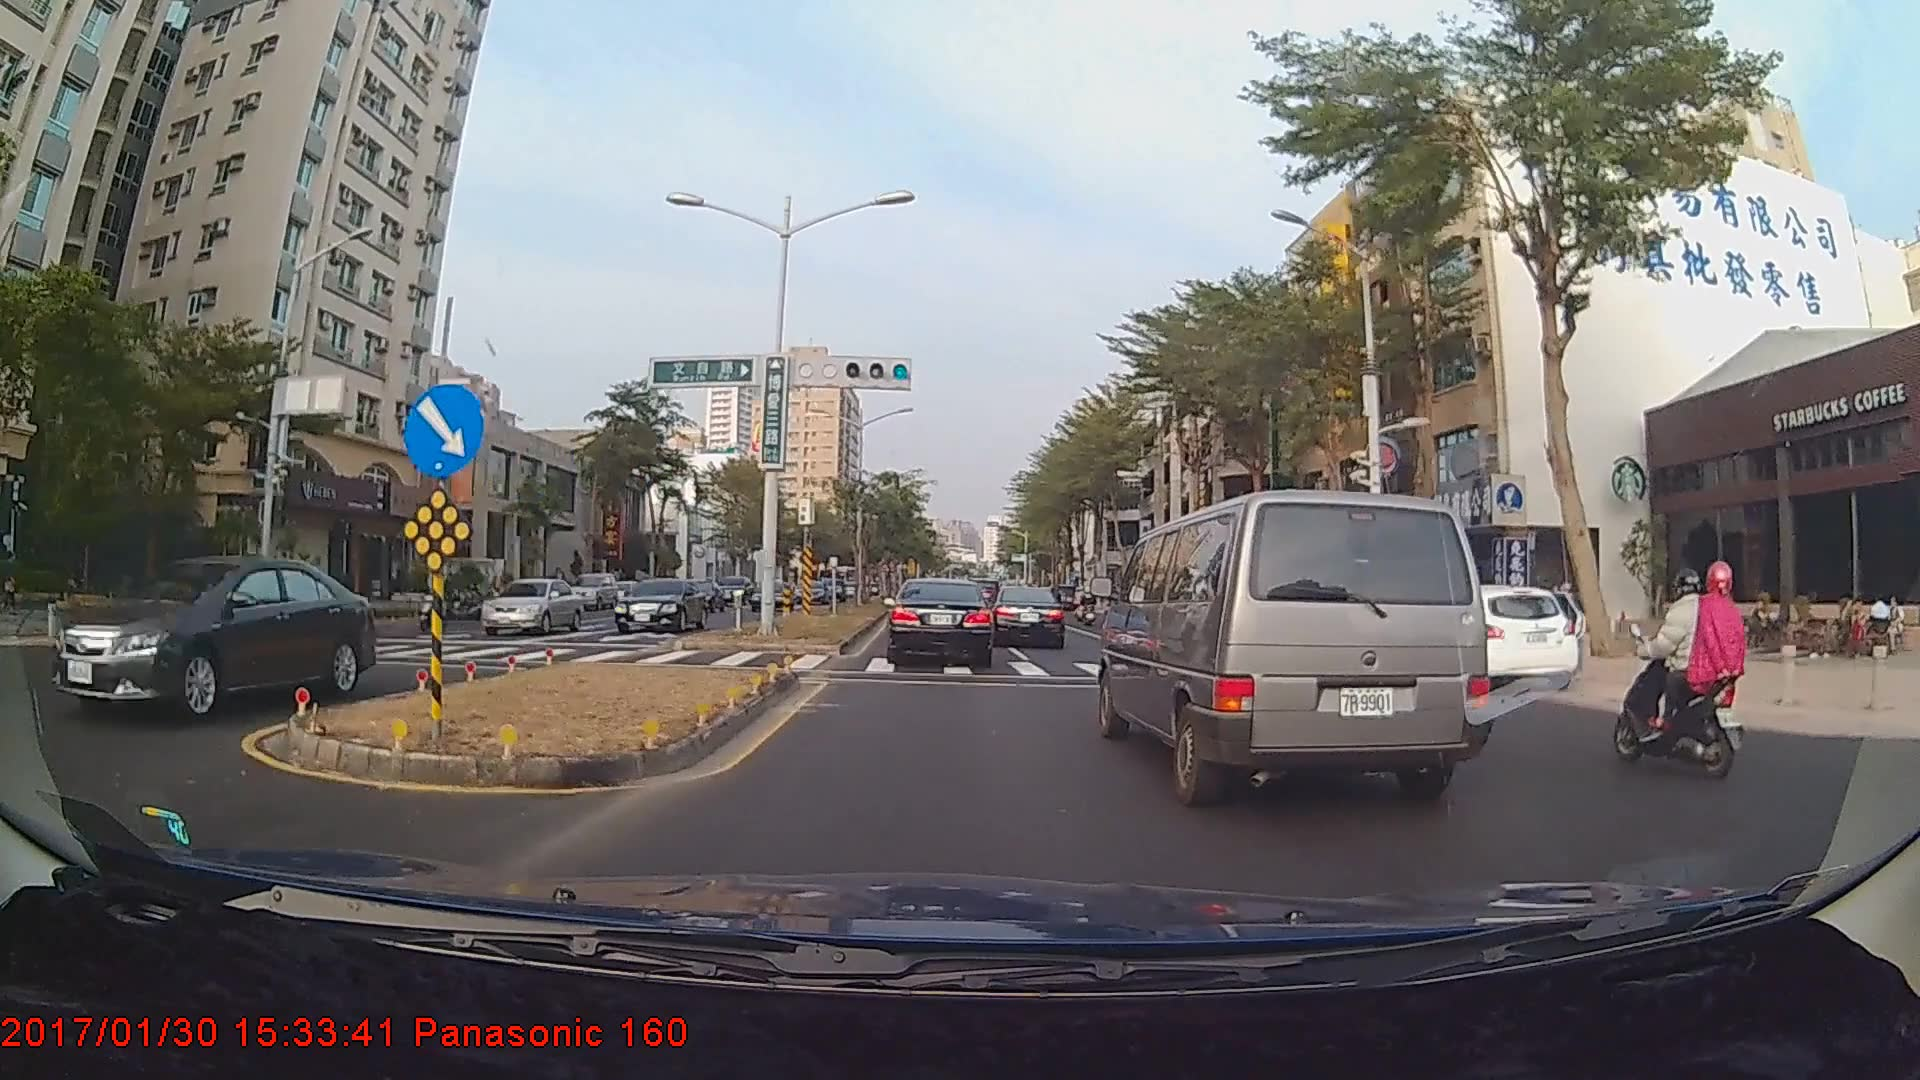rider: (1607, 555, 1755, 769), (414, 576, 457, 635)
vehicle: (1105, 480, 1487, 804), (49, 552, 376, 722), (1467, 584, 1571, 687), (884, 577, 994, 668), (479, 576, 584, 635), (613, 575, 709, 635), (991, 585, 1066, 647), (577, 572, 620, 611)
